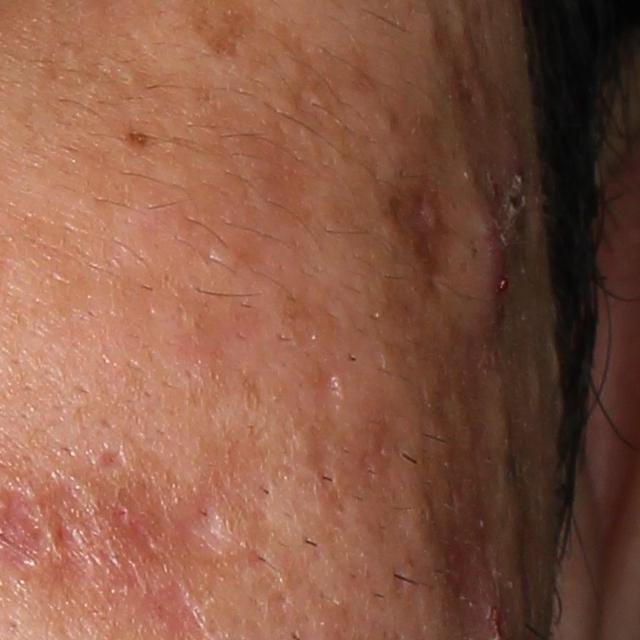atrophic_scar: (380, 160, 459, 296), (297, 364, 352, 501), (102, 449, 128, 470)
nevus: (127, 129, 151, 149)
